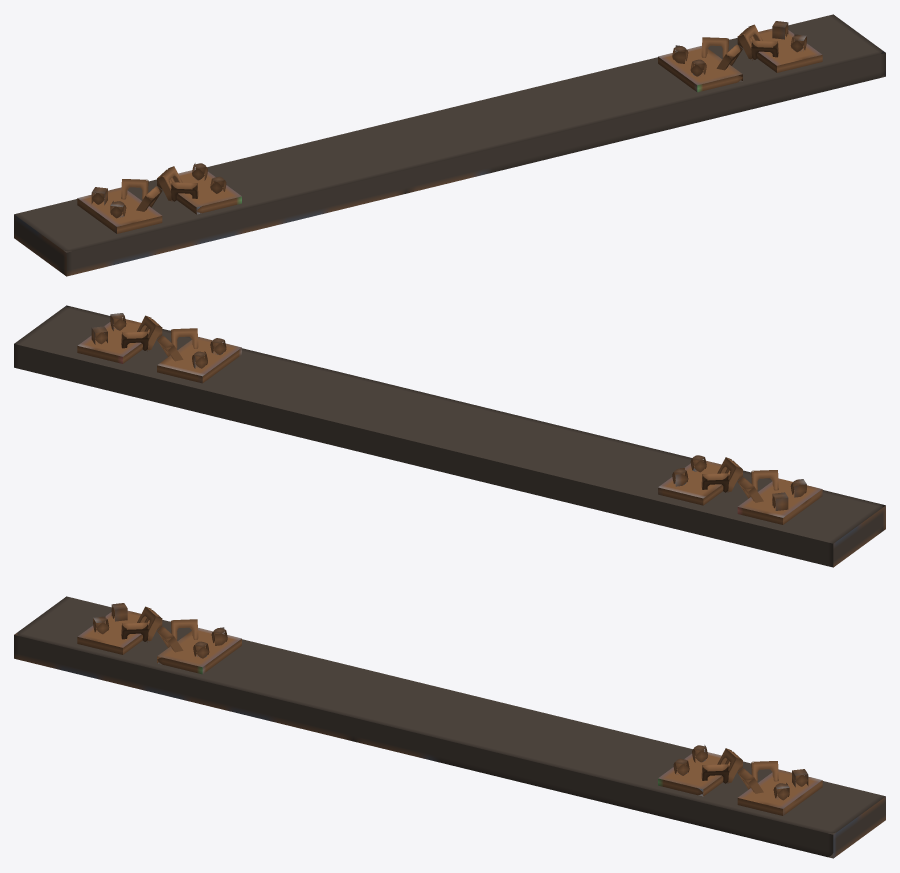
The model's file is woodensleepers.obj.
3 renders of one model, top to bottom at view 1: azimuth 30°, elevation 25°; view 2: azimuth 150°, elevation 25°; view 3: azimuth 330°, elevation 25°, orthographic.
Parts seen in each view (by area): view 1: cube; view 2: cube; view 3: cube.
Part boxes in pixels (x1=…): cube: x1=14, y1=14, x2=885, y2=276; cube: x1=14, y1=305, x2=885, y2=567; cube: x1=14, y1=596, x2=885, y2=858.
Bounding box in the file's own units: 2.25 × 0.1239 × 0.25.
Materials: 2 (2 with a texture image).
